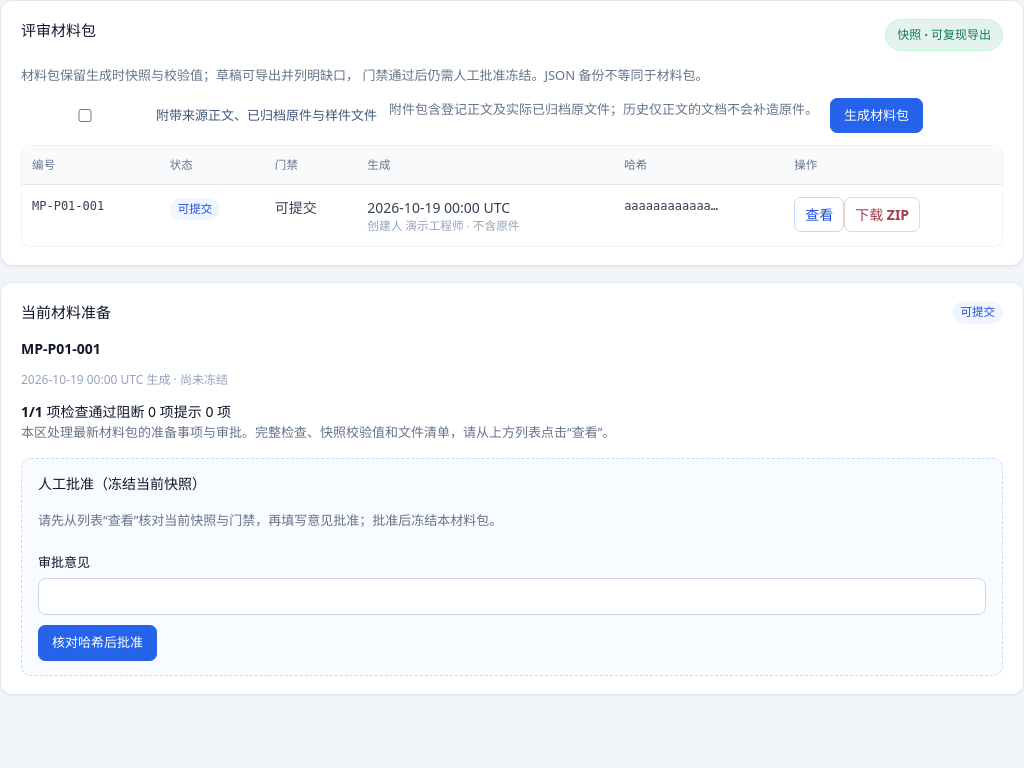
Scenario: PackagePanel › retains the approval response when the following list read fails
In the field named "材料包审批意见": (512, 596) [38, 578, 986, 615], type "已核对快照及全部证据"
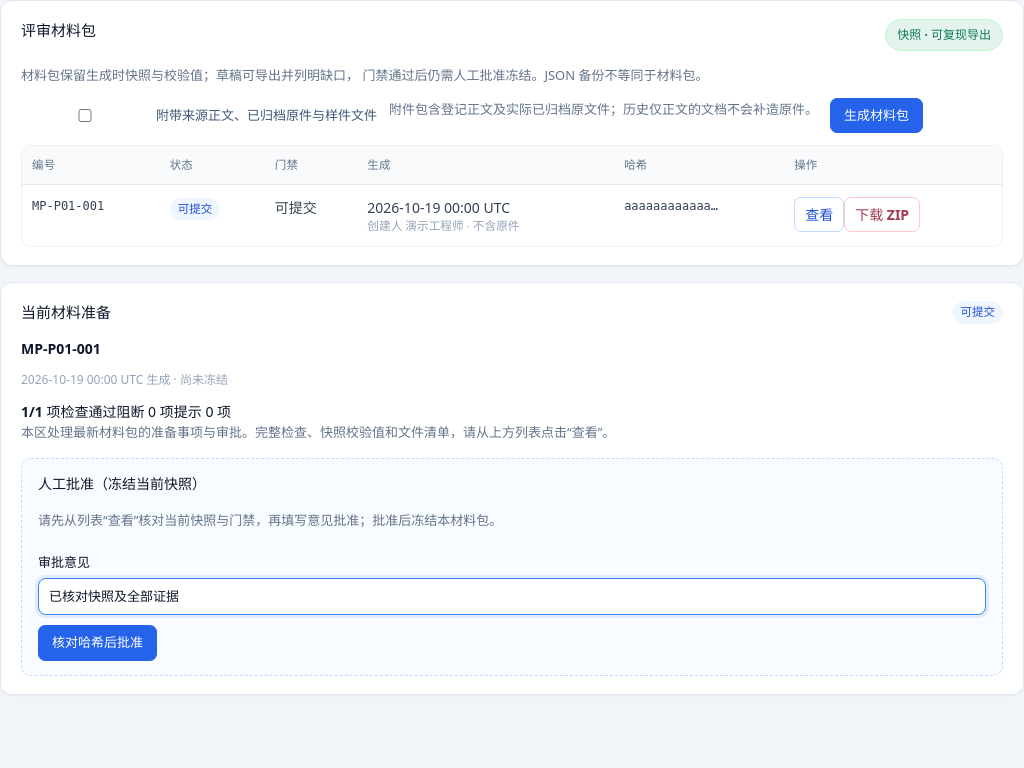
Click the button "核对哈希后批准": (98, 643) [38, 625, 157, 661]
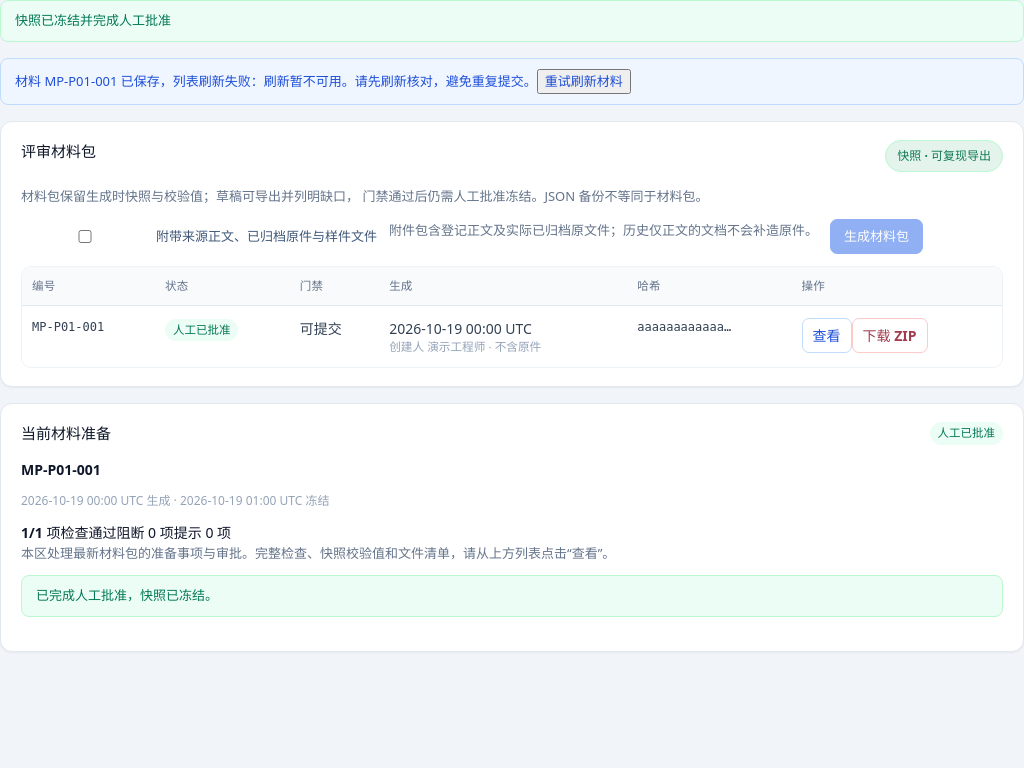
Result: the text "材料 MP-P01-001 已保存，列表刷新失败：刷新暂不可用。请先刷新核对，避免重复提交。 重试刷新材料" is shown at [0, 58, 1023, 105]
Result: the button "核对哈希后批准" is gone
